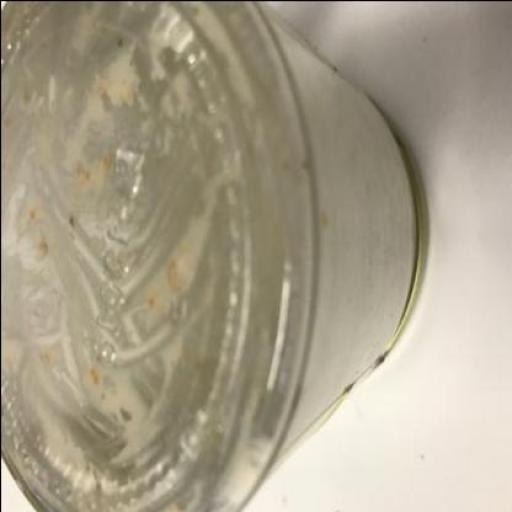glass: (1, 0, 416, 511)
